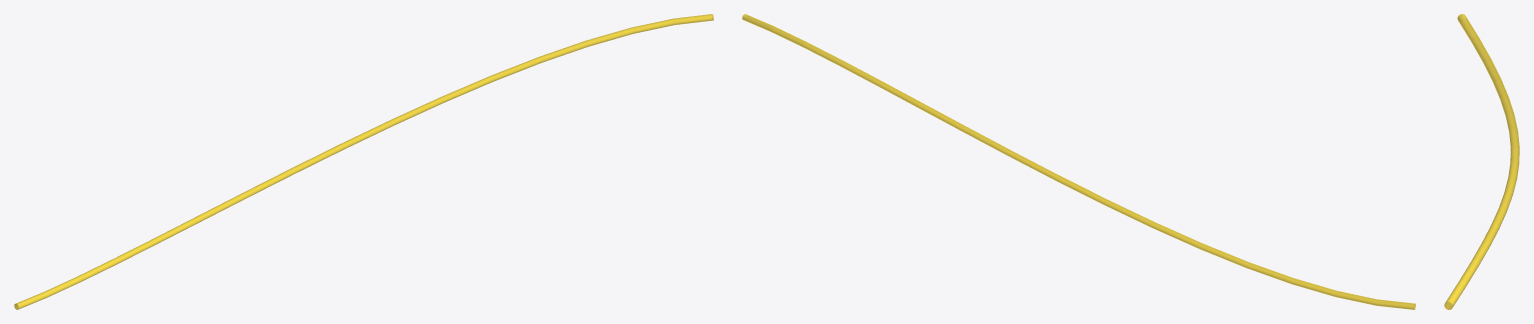
The model's file is Event_27938768_track_63.fbx.
3 views of the same model, side by side, from view 1: azimuth 30°, elevation 25°; view 2: azimuth 150°, elevation 25°; view 3: azimuth 270°, elevation 25° (orthographic). The views are drawn at different scales.
Parts seen in each view (by area): view 1: Model; view 2: Model; view 3: Model.
Part boxes in pixels (left/top/right/bottom): Model: left=14, top=14, right=713, bottom=309; Model: left=742, top=14, right=1415, bottom=309; Model: left=1444, top=14, right=1519, bottom=309.
Size of the model in its own units: 4.82 by 0.8675 by 0.336.
